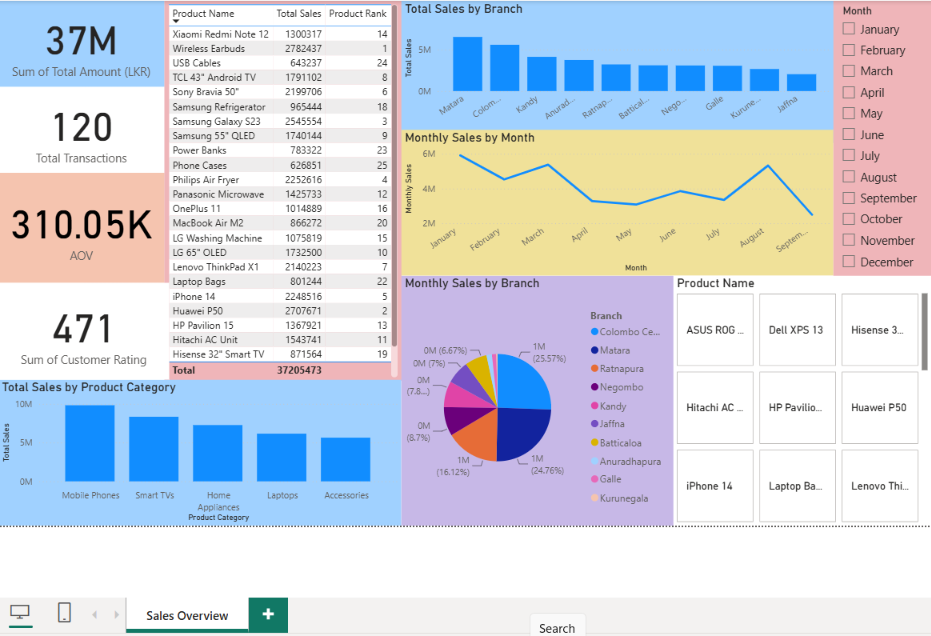

The page's visual inventory and layout, read from the dashboard file:
{"tool":"powerbi","page":{"name":"Sales Overview","canvas":[1280,720],"ordinal":0},"visuals":[{"type":"card","fields":{"Values":["Sum(Sheet1.Total Amount (LKR))"]},"box":[0,0,227.8,118],"z":0},{"type":"card","fields":{"Values":["Sheet1.Total Transactions"]},"box":[0,118,227.8,118],"z":1000},{"type":"card","fields":{"Values":["Sheet1.AOV"]},"box":[0,236,227.8,150.9],"z":2000},{"type":"tableEx","fields":{"Values":["Sheet1.Product Name","Sheet1.Total Sales","DateTable.Product Rank"]},"box":[227.8,0,325.2,521.4],"z":3000},{"type":"columnChart","fields":{"Category":["Sheet1.Product Category"],"Y":["Sheet1.Total Sales"]},"box":[0,520.1,553,200.3],"z":4000},{"type":"pieChart","fields":{"Category":["Sheet1.Branch"],"Y":["Sheet1.Monthly Sales"]},"box":[553,377.4,373.2,343.1],"z":5000},{"type":"clusteredColumnChart","fields":{"Category":["Sheet1.Branch"],"Y":["Sheet1.Total Sales"]},"box":[553,0,595.5,194.9],"z":6000},{"type":"lineChart","fields":{"Category":["Sheet1.Date.Variation.Date Hierarchy.Month"],"Y":["Sheet1.Monthly Sales"]},"box":[553,177,592.8,200.3],"z":7000},{"type":"slicer","fields":{"Values":["Sheet1.Date.Variation.Date Hierarchy.Month"]},"box":[1145.8,0,134.5,377.4],"z":8000},{"type":"advancedSlicerVisual","fields":{"Values":["Sheet1.Product Name"]},"box":[926.2,377.4,354,343.1],"z":9000},{"type":"card","fields":{"Values":["Sum(Sheet1.Customer Rating)"]},"box":[0,387,234.6,133.1],"z":10000}]}

Visuals, with their boxes on the page's 1280x720 design canvas (x1, y1, x2, y2). These are canvas units, not pixel positions in the 931x636 screenshot, which may show the page scaled, cropped or inside an application window:
card - Sum(Sheet1.Total Amount (LKR)): bbox(0, 0, 228, 118)
card - Sheet1.Total Transactions: bbox(0, 118, 228, 236)
card - Sheet1.AOV: bbox(0, 236, 228, 387)
tableEx - Sheet1.Product Name x Sheet1.Total Sales: bbox(228, 0, 553, 521)
columnChart - Sheet1.Product Category x Sheet1.Total Sales: bbox(0, 520, 553, 720)
pieChart - Sheet1.Branch x Sheet1.Monthly Sales: bbox(553, 377, 926, 720)
clusteredColumnChart - Sheet1.Branch x Sheet1.Total Sales: bbox(553, 0, 1148, 195)
lineChart - Sheet1.Date.Variation.Date Hierarchy.Month x Sheet1.Monthly Sales: bbox(553, 177, 1146, 377)
slicer - Sheet1.Date.Variation.Date Hierarchy.Month: bbox(1146, 0, 1280, 377)
advancedSlicerVisual - Sheet1.Product Name: bbox(926, 377, 1280, 720)
card - Sum(Sheet1.Customer Rating): bbox(0, 387, 235, 520)
